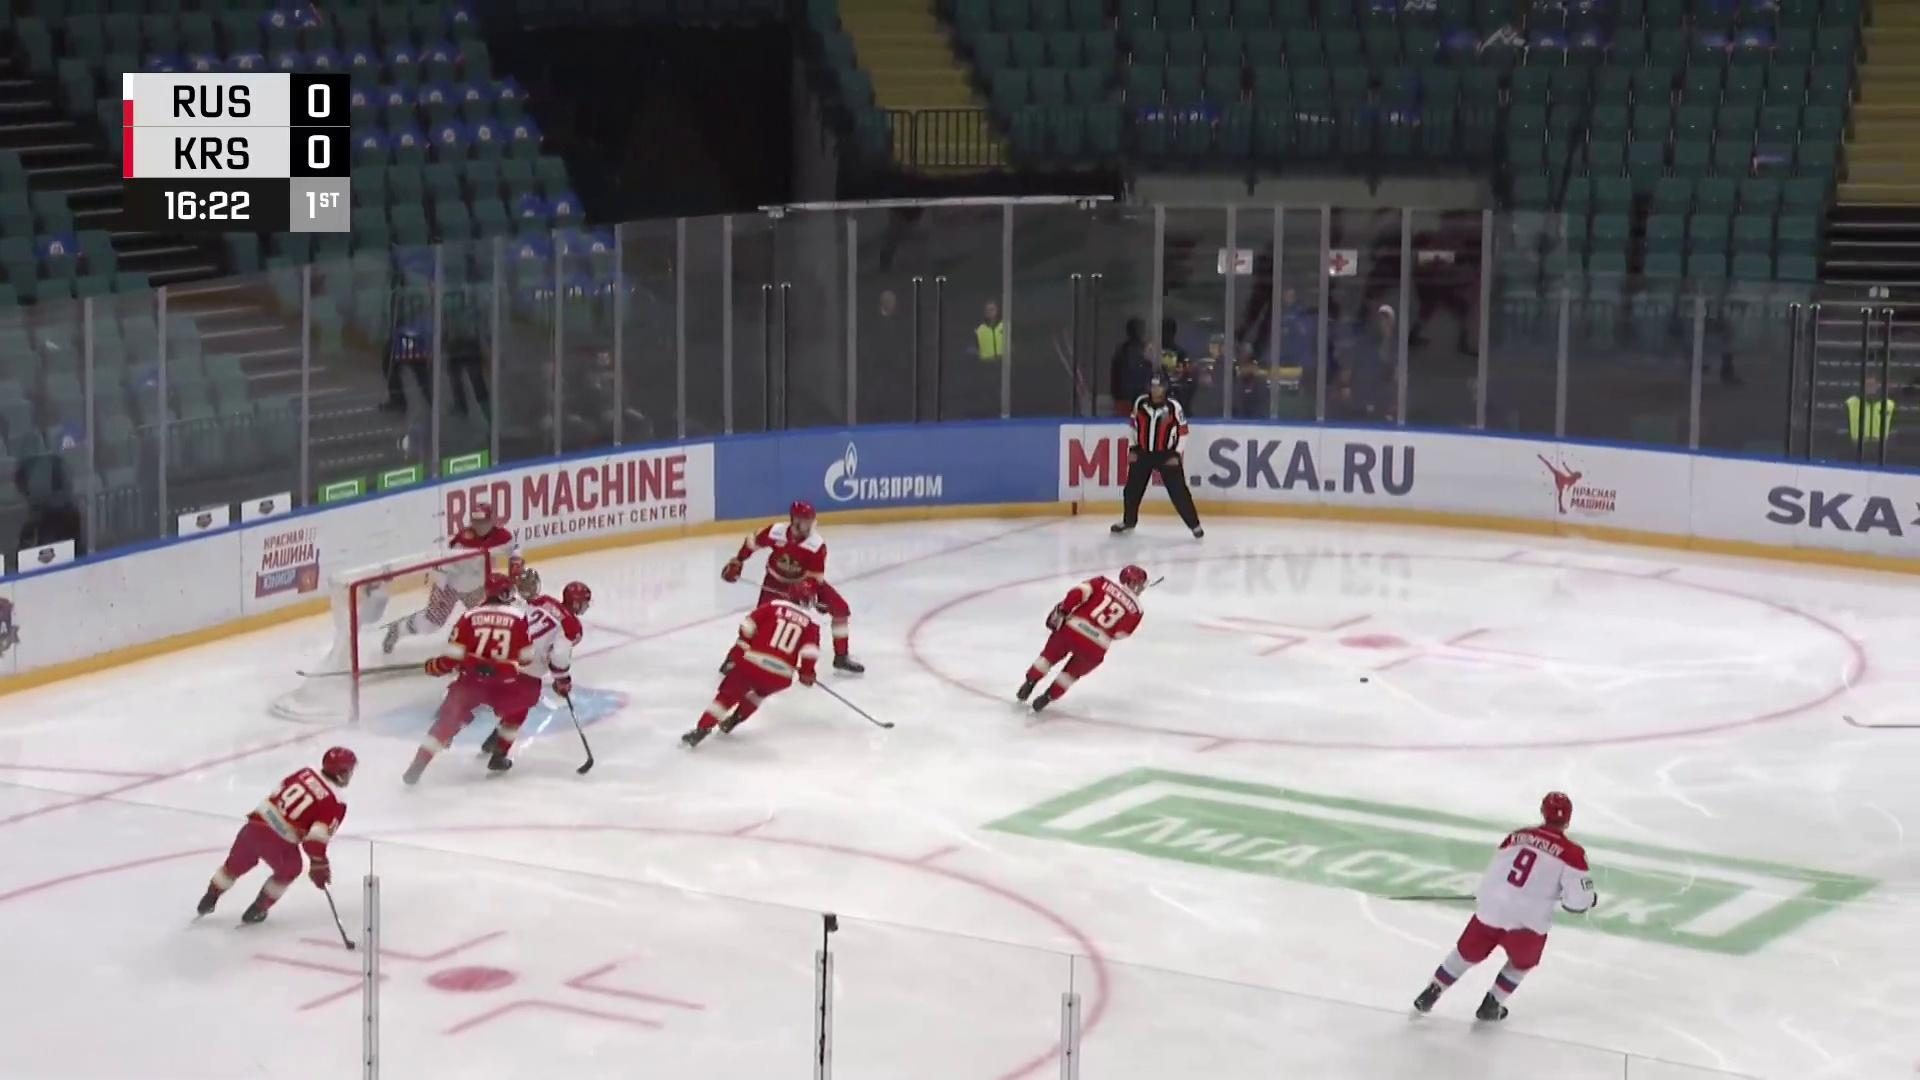ball: (1357, 676, 1371, 684)
